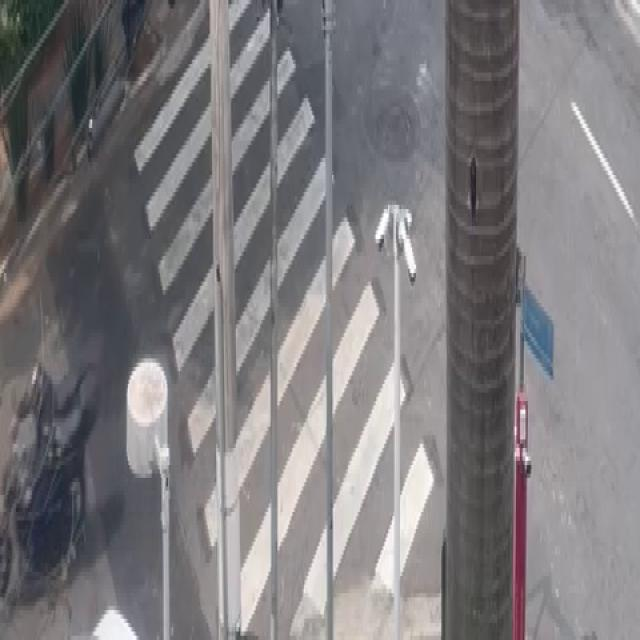motorbike: (2, 355, 108, 608)
